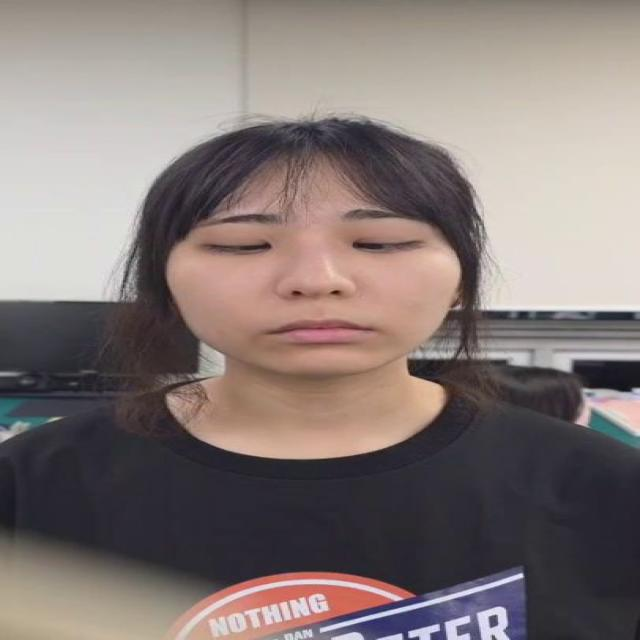eyes: (197, 232, 429, 255)
face: (170, 119, 467, 379)
iris_down: (357, 240, 385, 252), (238, 240, 268, 250)
